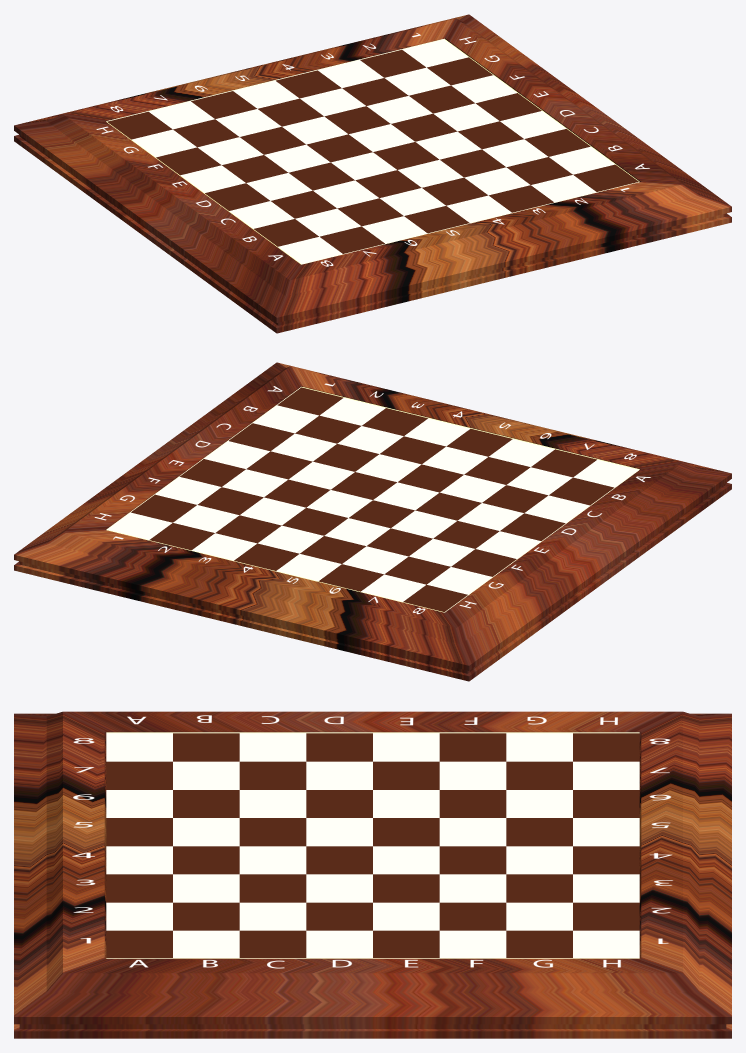
The model's file is Chess_Base.gltf.
The picture shows the model from 3 angles, top to bottom: view 1: azimuth 30°, elevation 25°; view 2: azimuth 150°, elevation 25°; view 3: azimuth 270°, elevation 25°; orthographic projection. The views are drawn at different scales.
Parts seen in each view (by area): view 1: Chess Board; view 2: Chess Board; view 3: Chess Board, LettereNeri, LettereBianchi, NumeriNeri, NumeriBianchi.
Part boxes in pixels (x1,y1,x2,y2): Chess Board: [14, 14, 731, 333]; Chess Board: [14, 362, 731, 681]; Chess Board: [14, 711, 731, 1038]; LettereNeri: [127, 715, 617, 725]; LettereBianchi: [129, 959, 620, 968]; NumeriNeri: [649, 738, 672, 943]; NumeriBianchi: [72, 738, 95, 943].
Size of the model in its own units: 0.6459 by 0.0444 by 0.6459.
Materials: 7 (5 with a texture image).
